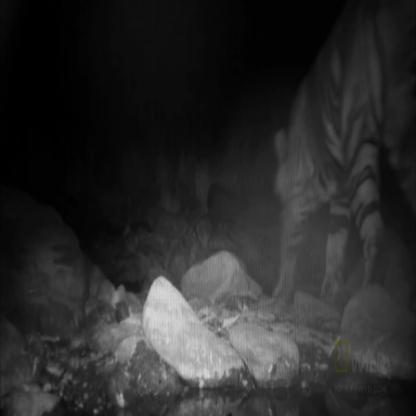Tiger: (263, 19, 389, 322)
